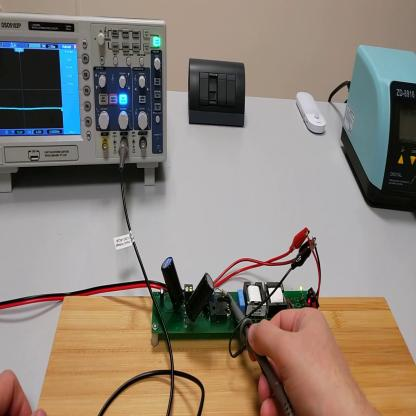hand: (246, 303, 356, 414), (2, 370, 48, 415)
high voltage board: (152, 239, 334, 347)
oscilloscope: (1, 16, 172, 192)
oscilloscope probe tip: (226, 289, 294, 415)
welder station: (343, 41, 416, 214)
working area: (35, 294, 416, 416)
